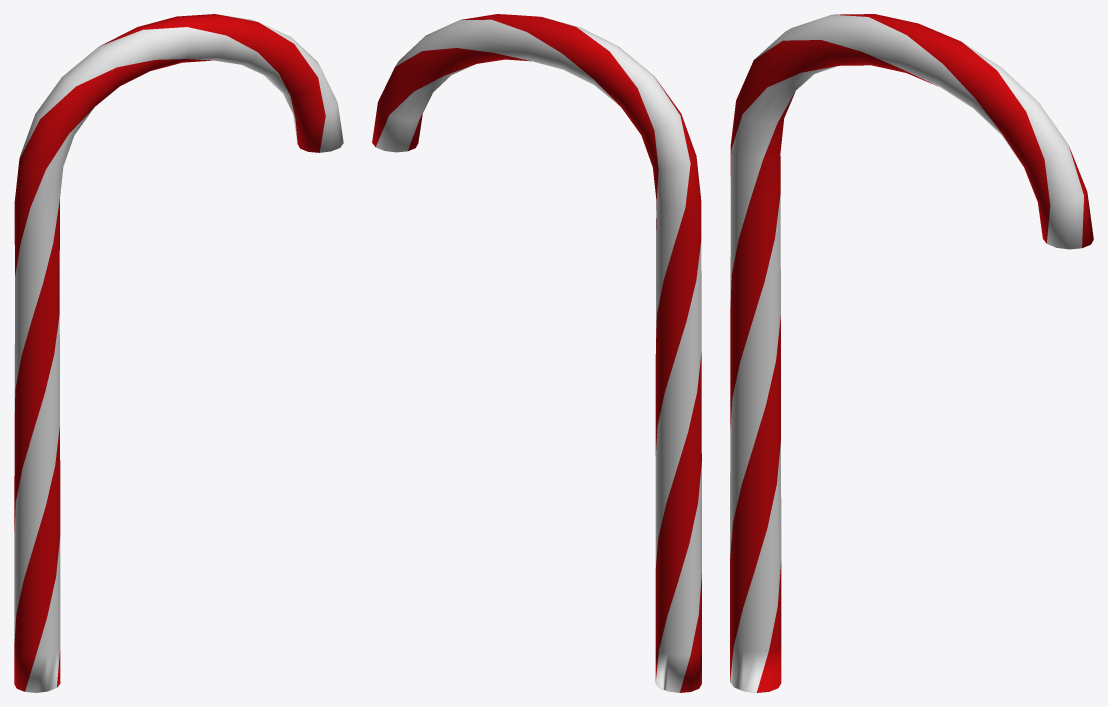
File: CandyCane.glb
3 views of the same model, side by side, from view 1: azimuth 30°, elevation 25°; view 2: azimuth 150°, elevation 25°; view 3: azimuth 330°, elevation 25° (orthographic). The views are drawn at different scales.
Parts seen in each view (by area): view 1: Circle; view 2: Circle; view 3: Circle.
Boxes of the visible parts, <box> form: Circle: <box>14,14,343,692</box>; Circle: <box>372,14,701,692</box>; Circle: <box>730,14,1093,692</box>.
Bounding box in the file's own units: 15.81 × 29.38 × 1.81.
